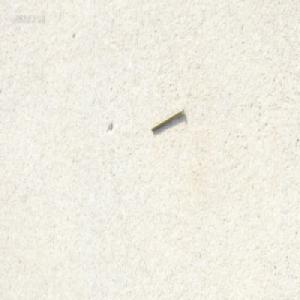Bolt: (150, 104, 184, 132)
